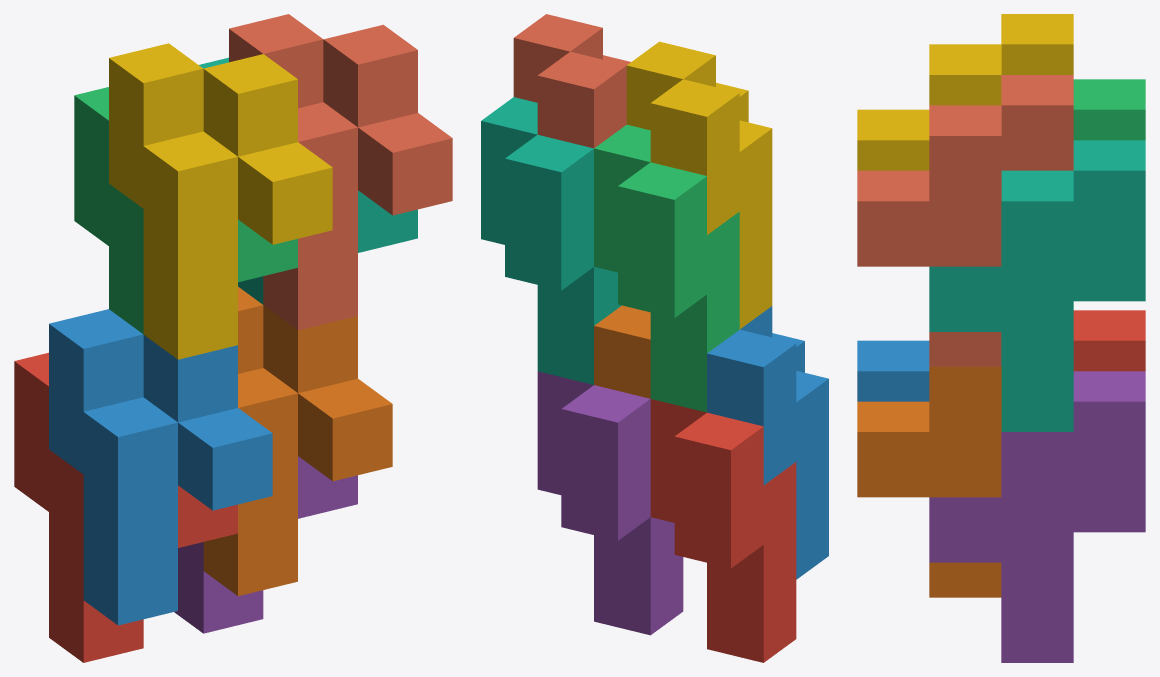
The model's file is tiling.obj.
The picture shows the model from 3 angles, left to right: view 1: azimuth 30°, elevation 25°; view 2: azimuth 150°, elevation 25°; view 3: azimuth 270°, elevation 25°; orthographic projection. The views are drawn at different scales.
Parts seen in each view (by area): view 1: copy_1_domain_4, copy_1_domain_2, copy_1_domain_8, copy_1_domain_6, copy_1_domain_1, copy_1_domain_3, copy_1_domain_5, copy_1_domain_7; view 2: copy_1_domain_1, copy_1_domain_3, copy_1_domain_5, copy_1_domain_7, copy_1_domain_4, copy_1_domain_2, copy_1_domain_8, copy_1_domain_6; view 3: copy_1_domain_7, copy_1_domain_5, copy_1_domain_8, copy_1_domain_6, copy_1_domain_4, copy_1_domain_1, copy_1_domain_2, copy_1_domain_3.
Part boxes in pixels (x1,y1,x2,y2): copy_1_domain_4: (109,43,332,359); copy_1_domain_2: (49,309,272,625); copy_1_domain_8: (229,14,452,330); copy_1_domain_6: (203,287,392,596); copy_1_domain_1: (14,352,237,662); copy_1_domain_3: (74,87,297,334); copy_1_domain_5: (174,456,357,633); copy_1_domain_7: (199,57,417,304); copy_1_domain_1: (650,399,796,662); copy_1_domain_3: (594,124,739,412); copy_1_domain_5: (537,371,683,635); copy_1_domain_7: (481,97,621,384); copy_1_domain_4: (626,41,772,329); copy_1_domain_2: (707,306,828,579); copy_1_domain_8: (513,14,630,148); copy_1_domain_6: (594,305,650,398); copy_1_domain_7: (929,140,1145,431); copy_1_domain_5: (929,371,1145,662); copy_1_domain_8: (857,75,1073,366); copy_1_domain_6: (857,366,1001,597); copy_1_domain_4: (857,14,1073,170); copy_1_domain_1: (1073,310,1145,371); copy_1_domain_2: (857,340,929,401); copy_1_domain_3: (1073,79,1145,140).
Size of the model in its own units: 5 by 9 by 4.
